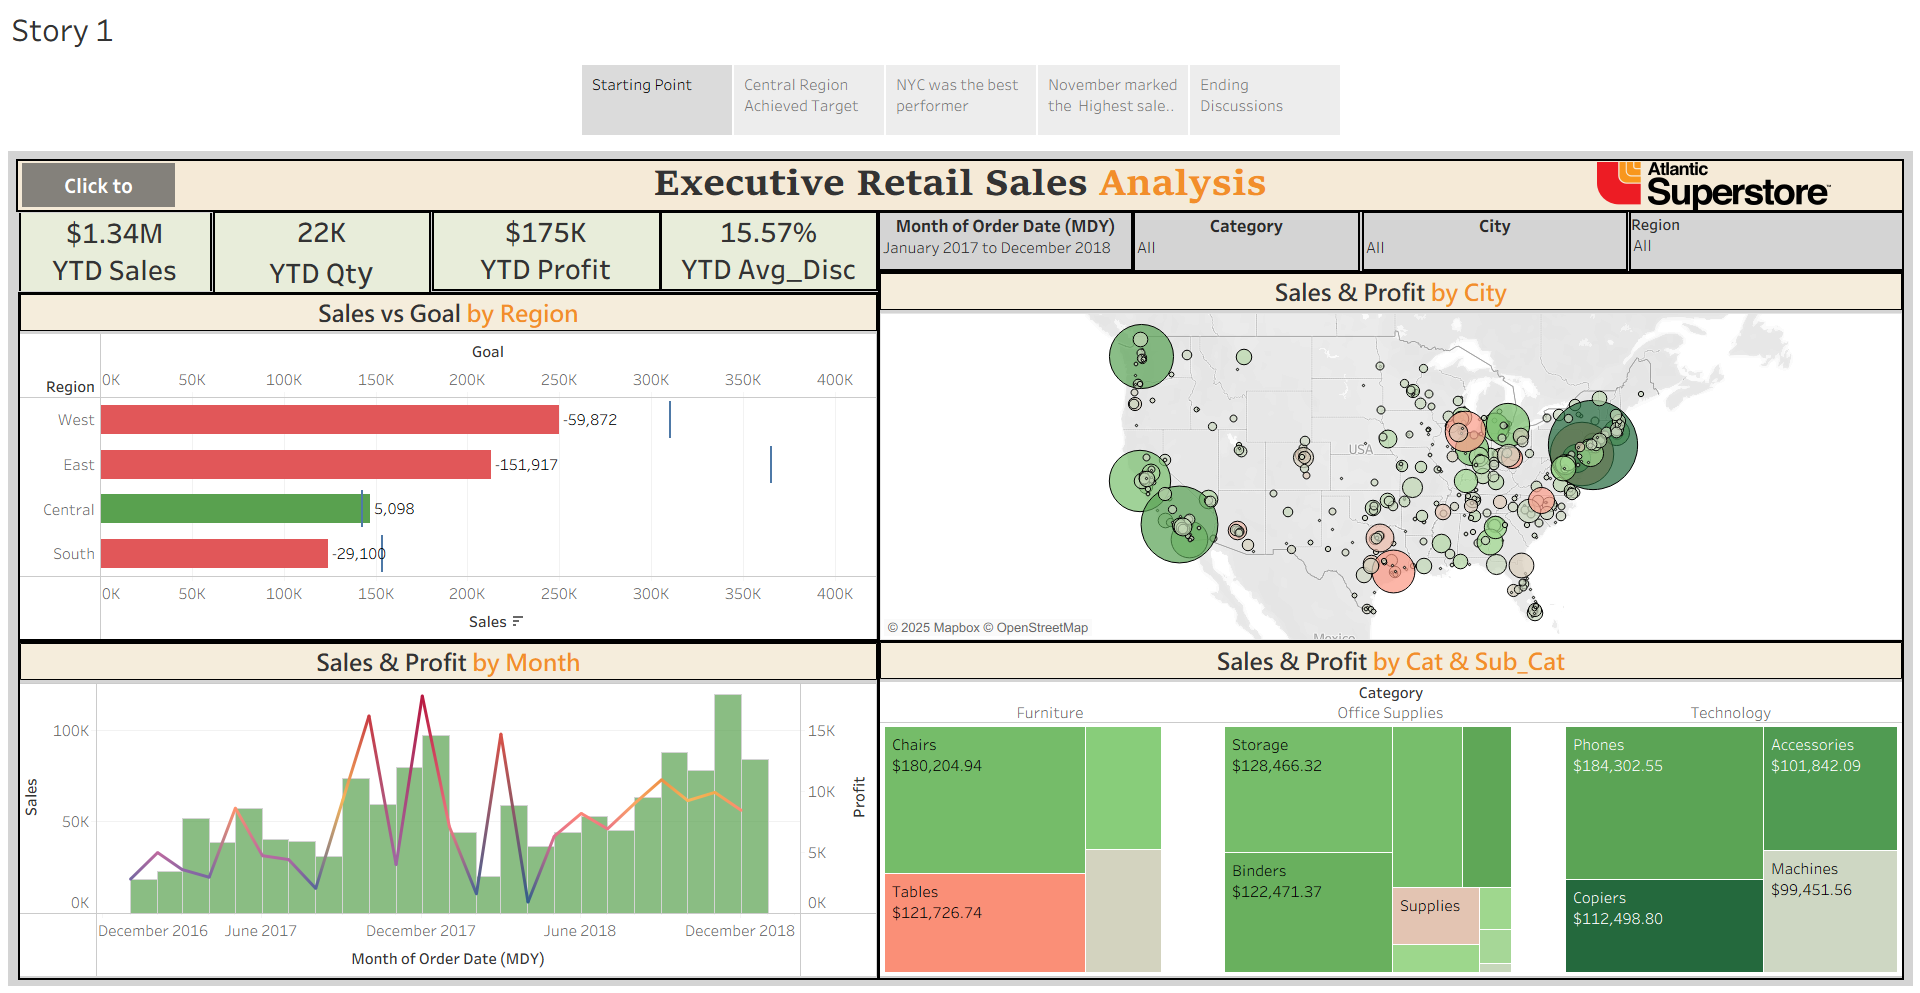

The dashboard page shown, as its layout file describes it:
{"tool":"tableau","page":{"name":"Dashboard 1","canvas":[1000,1000],"units":"permille","ordinal":0},"visuals":[{"type":"title","box":[4.8,10,990.3,63.6]},{"type":"image","param":"Image/atlantic-superstore-2017.svg","box":[834.6,13.7,158.7,59.9]},{"type":"dashboard-object","box":[7.2,15,80.3,52.4]},{"type":"worksheet","title":"Quantity","mark":"Automatic","box":[105,69.9,122.5,116.1]},{"type":"worksheet","title":"Profit","mark":"Automatic","box":[226.3,69.9,97.2,119.9]},{"type":"worksheet","title":"Discount","mark":"Automatic","box":[322.3,69.9,135.2,216]},{"type":"worksheet","title":"Sales","mark":"Automatic","box":[4.2,72.4,102.6,99.9]},{"type":"filter","title":"Time_Series","param":"[federated.0xhq3lh1d73h9h12l06ax1aoxa5d].[tmn:Order Date (MDY):qk]","box":[456.9,72.4,134,71.2]},{"type":"filter","title":"Tree_Map","param":"[federated.0xhq3lh1d73h9h12l06ax1aoxa5d].[none:Category:nk]","box":[590.8,72.4,119.5,72.4]},{"type":"filter","title":"City_Wise","param":"[federated.0xhq3lh1d73h9h12l06ax1aoxa5d].[none:City:nk]","box":[710.9,72.4,140,71.2]},{"type":"filter","title":"Region_Wise","param":"[federated.0xhq3lh1d73h9h12l06ax1aoxa5d].[none:Region:nk]","box":[851.5,72.4,144.2,71.2]},{"type":"worksheet","title":"City_Wise","mark":"Automatic","box":[457.1,143.6,538.7,444.4]},{"type":"worksheet","title":"Region_Wise","mark":"Automatic","rows":["Region"],"cols":["Sales","Goal"],"box":[5.5,168.5,452.1,419.5]},{"type":"worksheet","title":"Tree_Map","mark":"Automatic","cols":["Category"],"box":[457.1,586.8,538.7,407]},{"type":"worksheet","title":"Time_Series","mark":"Automatic","rows":["Sales","Profit"],"cols":["Order Date (MDY)"],"box":[5.4,588,452.3,405.7]}]}

Visuals, with their boxes on the dashboard's canvas, which has no fixed pixel size, in thousandths of its width and height (x1, y1, x2, y2). These are canvas units, not pixel positions in the 1920x993 screenshot, which may show the page scaled, cropped or inside an application window:
title: BBox(5, 10, 995, 74)
image: BBox(835, 14, 993, 74)
dashboard-object: BBox(7, 15, 88, 67)
"Quantity" worksheet: BBox(105, 70, 228, 186)
"Profit" worksheet: BBox(226, 70, 324, 190)
"Discount" worksheet: BBox(322, 70, 458, 286)
"Sales" worksheet: BBox(4, 72, 107, 172)
"Time_Series" filter: BBox(457, 72, 591, 144)
"Tree_Map" filter: BBox(591, 72, 710, 145)
"City_Wise" filter: BBox(711, 72, 851, 144)
"Region_Wise" filter: BBox(852, 72, 996, 144)
"City_Wise" worksheet: BBox(457, 144, 996, 588)
"Region_Wise" worksheet: BBox(6, 168, 458, 588)
"Tree_Map" worksheet: BBox(457, 587, 996, 994)
"Time_Series" worksheet: BBox(5, 588, 458, 994)
